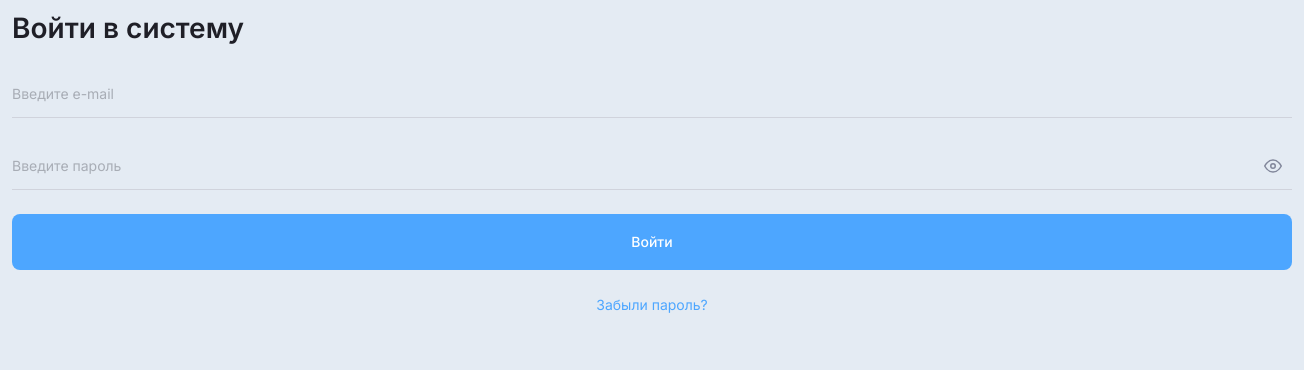
Test: SignInForm › shows email format error for invalid email
In the field with placeholder "Введите e-mail": (652, 94) [12,70,1292,118], type "notanemail"
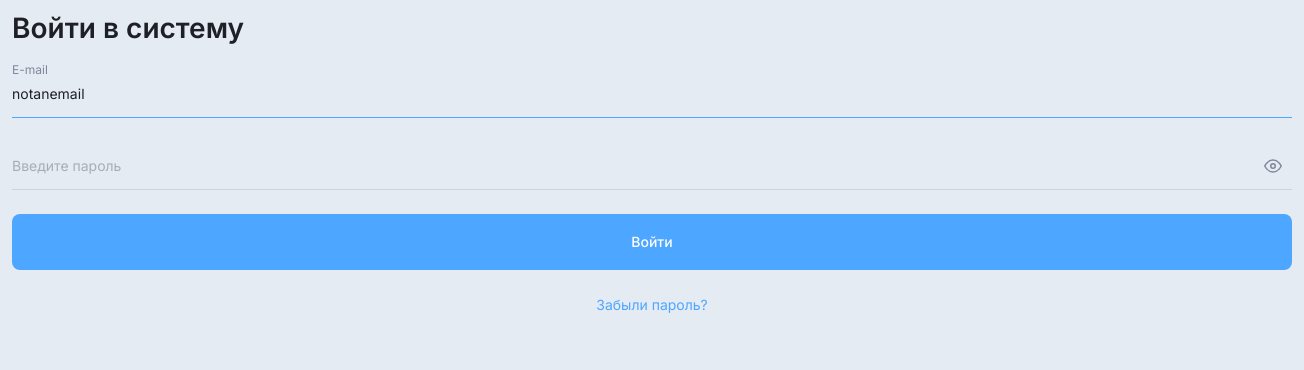
Click the button "Войти": (652, 242) [12,214,1292,270]
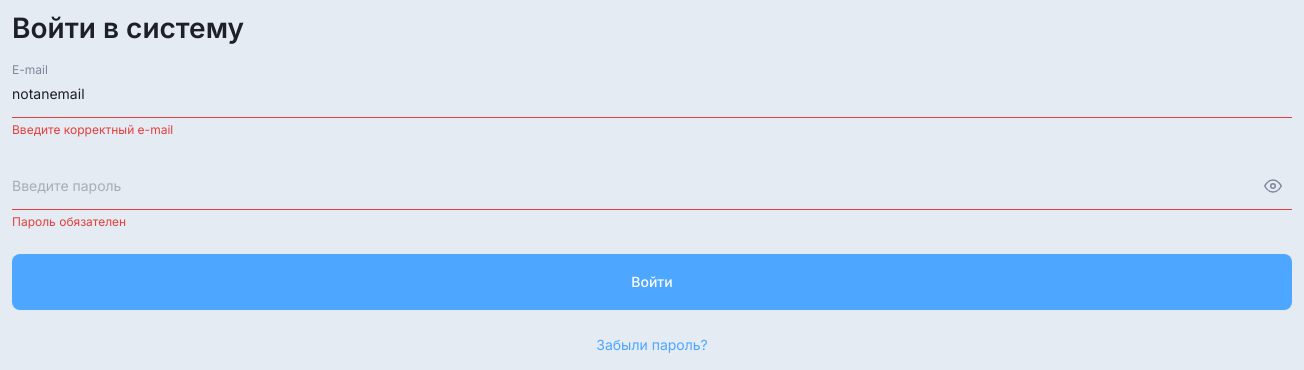
Expected: the text "Введите корректный e-mail" is shown, [12,122,173,137]
